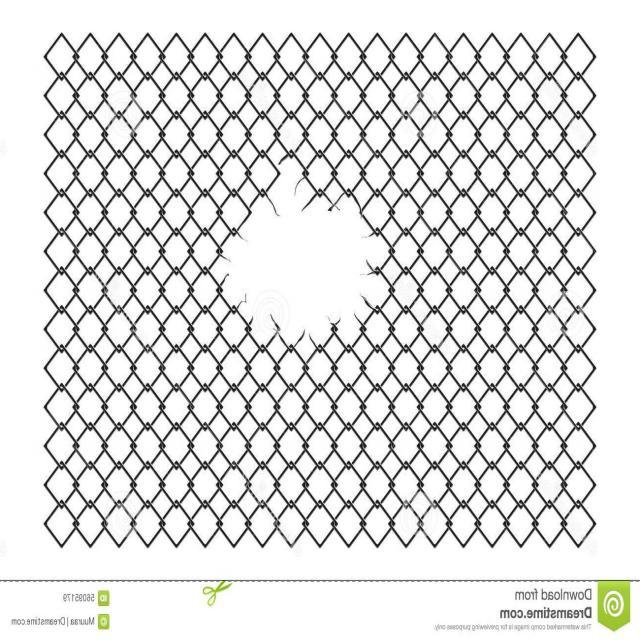fence line: (212, 170, 403, 354)
